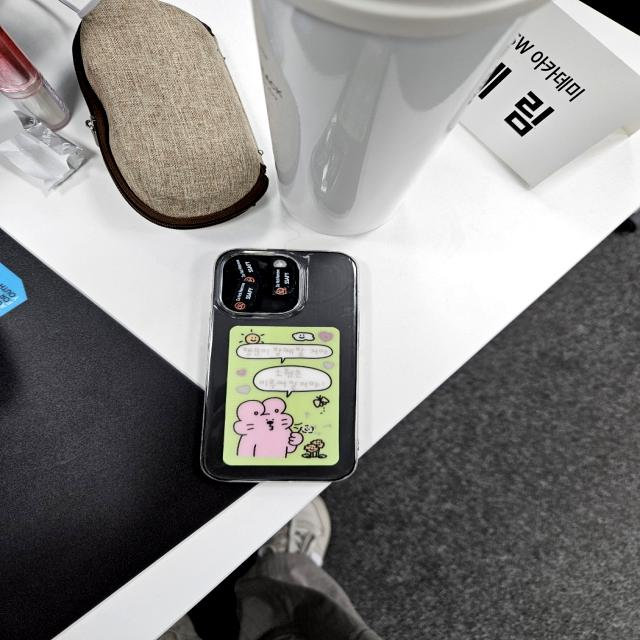phone: (198, 248, 360, 484)
sticker: (232, 256, 262, 284), (233, 280, 256, 312), (274, 268, 294, 296)
